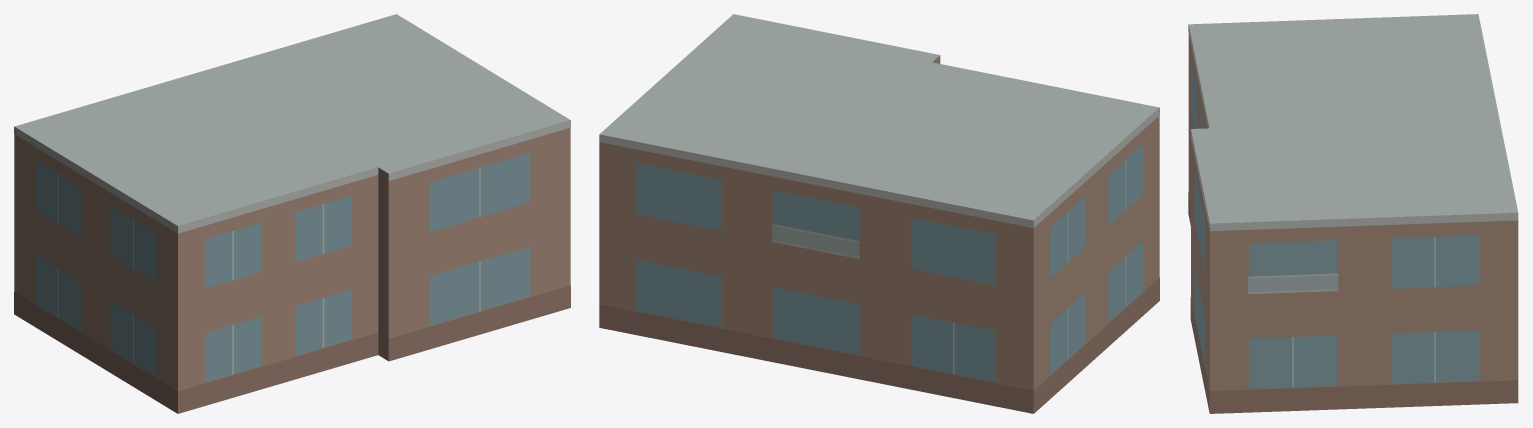
File: survey-upis-32699925.glb
3 views of the same model, side by side, from view 1: azimuth 30°, elevation 25°; view 2: azimuth 150°, elevation 25°; view 3: azimuth 270°, elevation 25° (orthographic). The views are drawn at different scales.
Visible parts, largest first — view 1: survey-upis-32699925.tmp; view 2: survey-upis-32699925.tmp; view 3: survey-upis-32699925.tmp.
Part boxes in pixels (x1,y1,x2,y2): survey-upis-32699925.tmp: [14, 14, 570, 413]; survey-upis-32699925.tmp: [599, 14, 1159, 413]; survey-upis-32699925.tmp: [1188, 14, 1518, 413].
Size of the model in its own units: 14.43 by 6.1 by 9.59.
